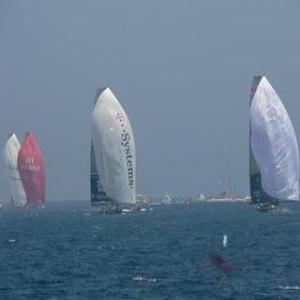drone: (185, 212, 268, 295)
